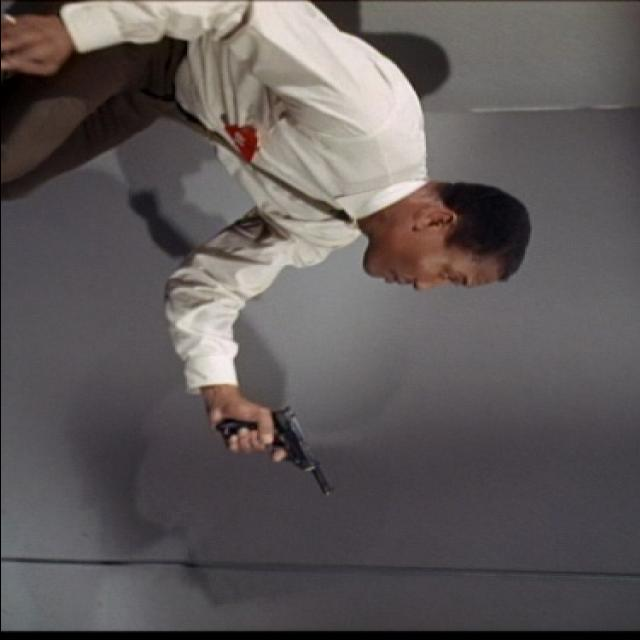weapons: (196, 401, 344, 505)
